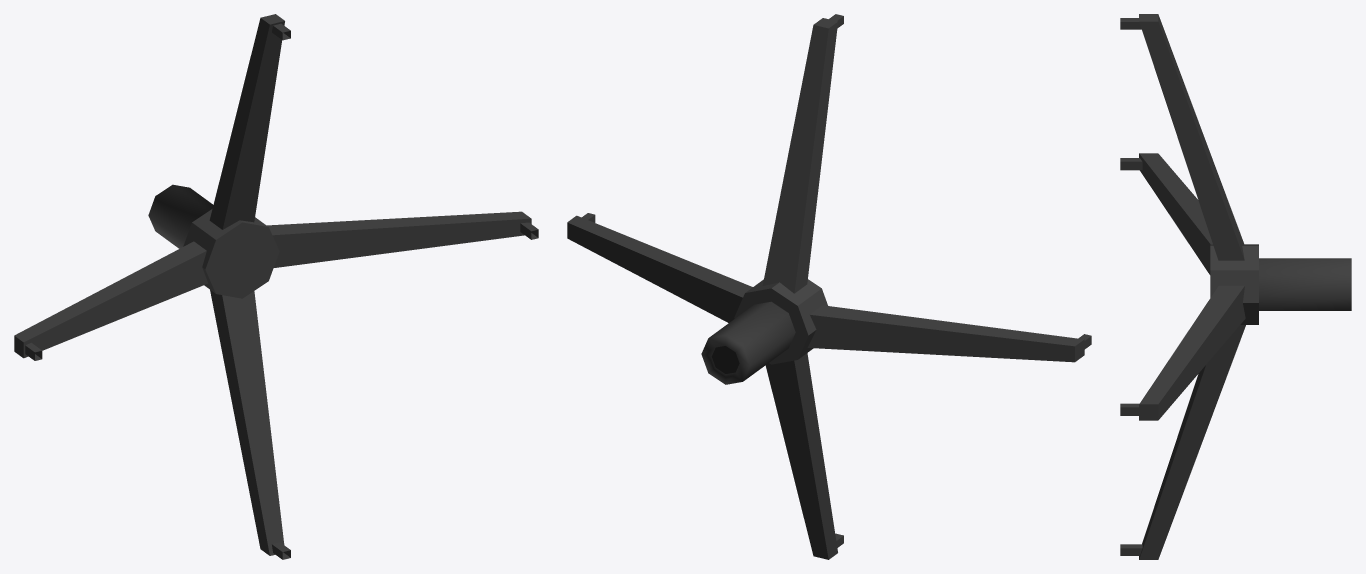
Rendered from Chair_Base.glb.
3 views of the same model, side by side, from view 1: azimuth 30°, elevation 25°; view 2: azimuth 150°, elevation 25°; view 3: azimuth 270°, elevation 25° (orthographic).
Visible parts, largest first — view 1: Chair Base; view 2: Chair Base; view 3: Chair Base.
Boxes of the visible parts, <box> form: Chair Base: <box>14,14,538,559</box>; Chair Base: <box>567,14,1091,559</box>; Chair Base: <box>1120,14,1351,559</box>.
Bounding box in the file's own units: 0.7347 × 0.7347 × 0.2862.
1 material, 1 textured.
